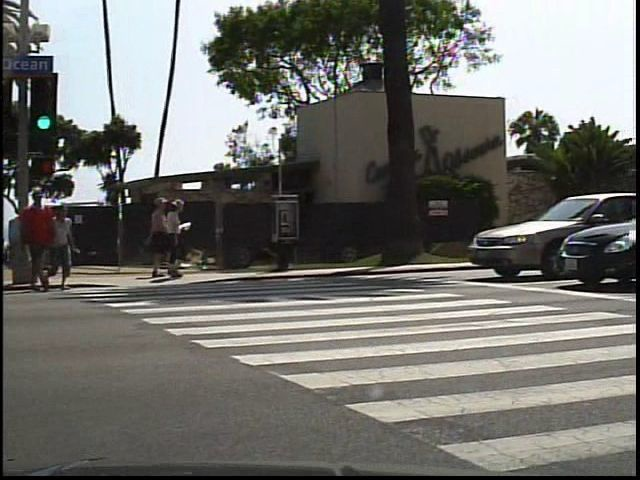person: (19, 189, 58, 297), (52, 198, 90, 292)
